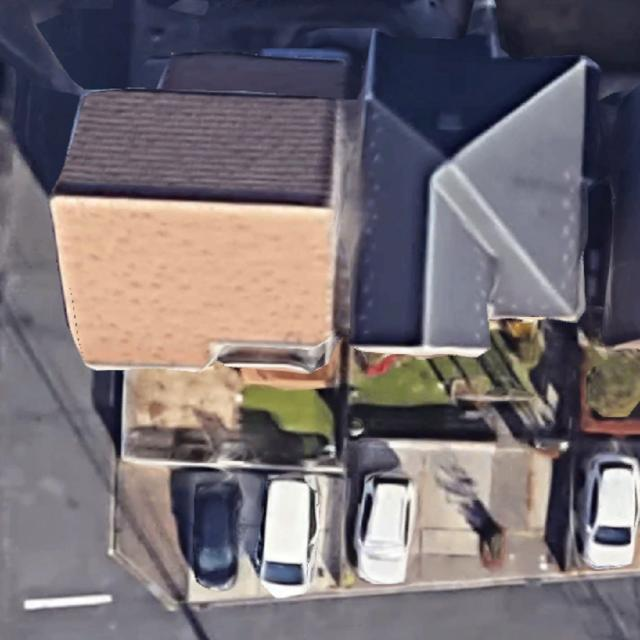Batiment: (51, 54, 354, 370), (350, 32, 598, 354)
